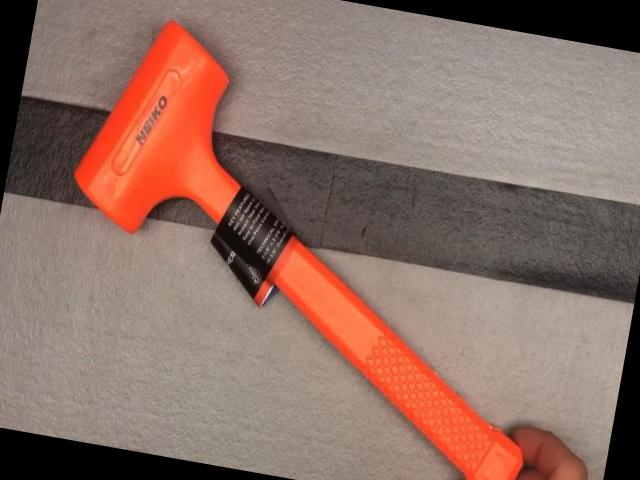hammer: (28, 6, 591, 480)
